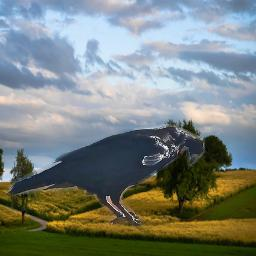Crow: (4, 124, 205, 228)
